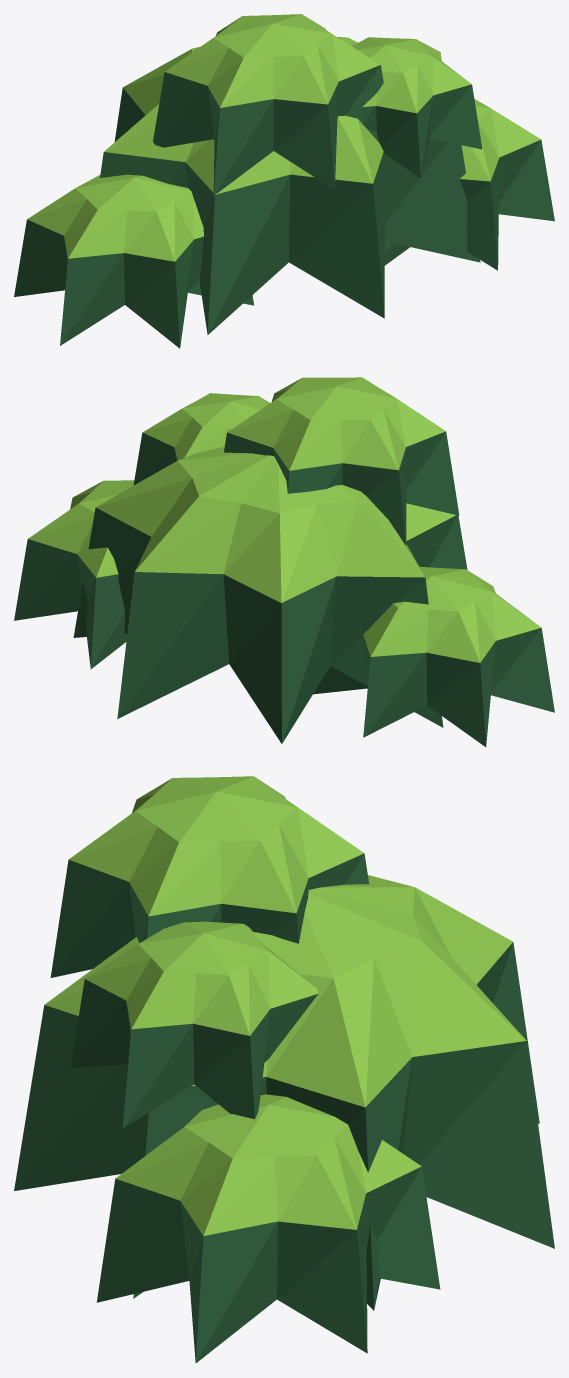
Rendered from tree_crown_c.glb.
3 views of the same model, one above another, from view 1: azimuth 30°, elevation 25°; view 2: azimuth 150°, elevation 25°; view 3: azimuth 270°, elevation 25° (orthographic). The views are drawn at different scales.
Visible parts, largest first — view 1: leaf_shade, leaf_lit; view 2: leaf_shade, leaf_lit; view 3: leaf_shade, leaf_lit.
Part boxes in pixels (x1,y1,x2,y2): leaf_shade: (14, 65, 554, 348); leaf_lit: (27, 14, 540, 261); leaf_shade: (14, 431, 554, 746); leaf_lit: (28, 377, 541, 662); leaf_shade: (14, 853, 554, 1363); leaf_lit: (44, 776, 526, 1235).
Size of the model in its own units: 6.31 by 3.32 by 4.16.
